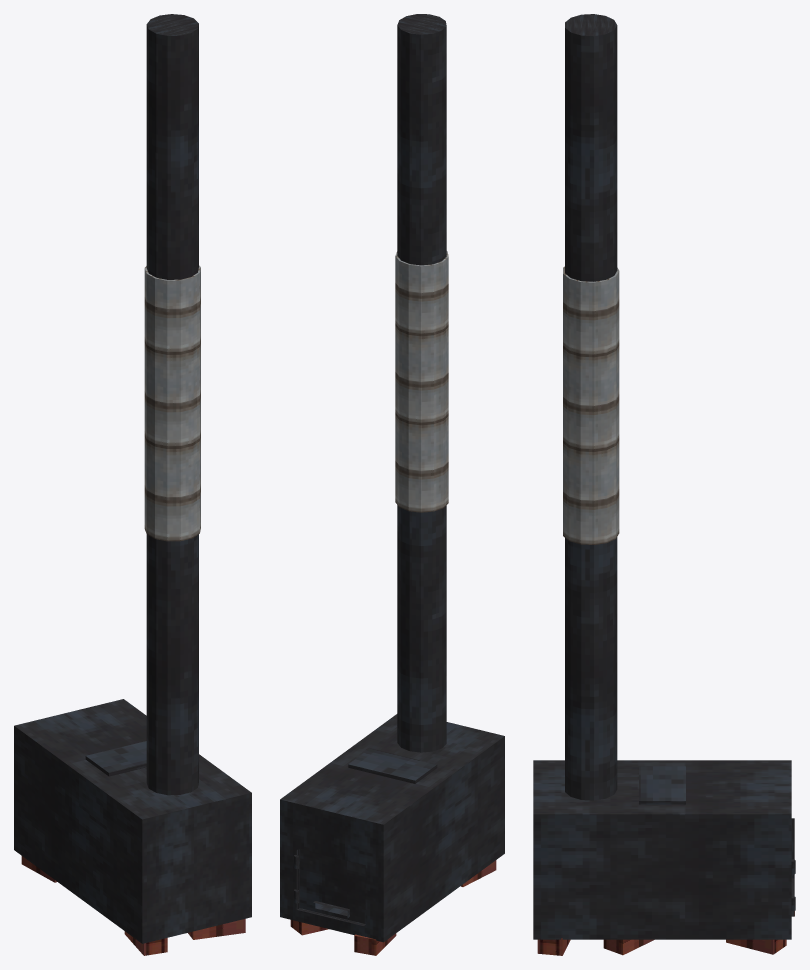
Rendered from pech.fbx.
3 views of the same model, side by side, from view 1: azimuth 30°, elevation 25°; view 2: azimuth 150°, elevation 25°; view 3: azimuth 270°, elevation 25° (orthographic). The views are drawn at different scales.
Parts seen in each view (by area): view 1: Cube.013; view 2: Cube.013, Cylinder.001; view 3: Cube.013.
Part boxes in pixels (left/top/right/bottom): Cube.013: left=14, top=14, right=251, bottom=955; Cube.013: left=280, top=14, right=504, bottom=955; Cylinder.001: left=294, top=849, right=365, bottom=925; Cube.013: left=533, top=14, right=794, bottom=955.
Bounding box in the file's own units: 310 × 2426 × 636.
